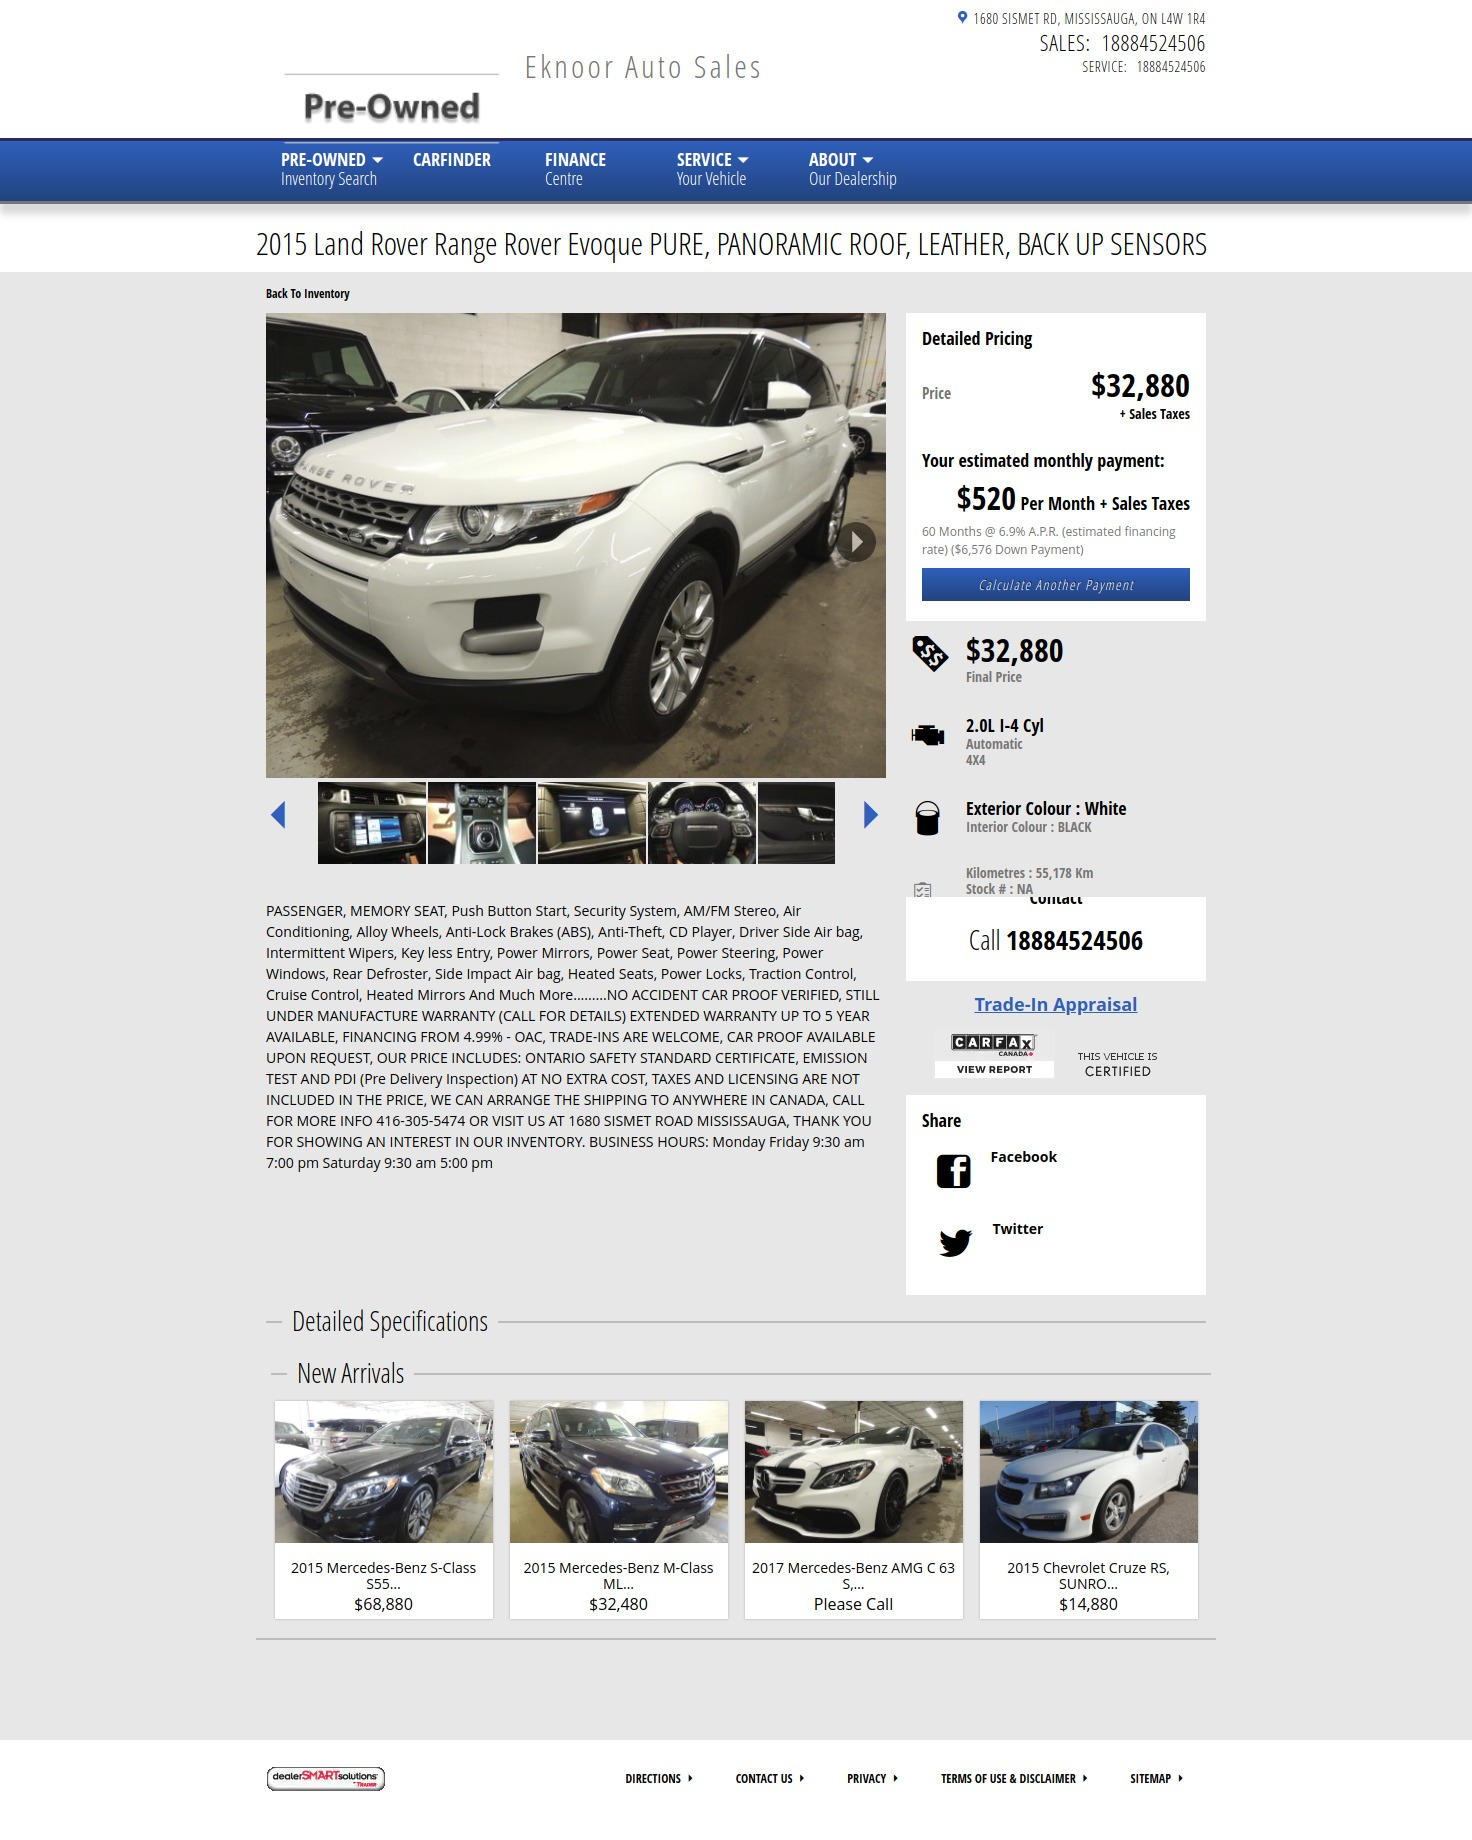car: (864, 802, 879, 831)
